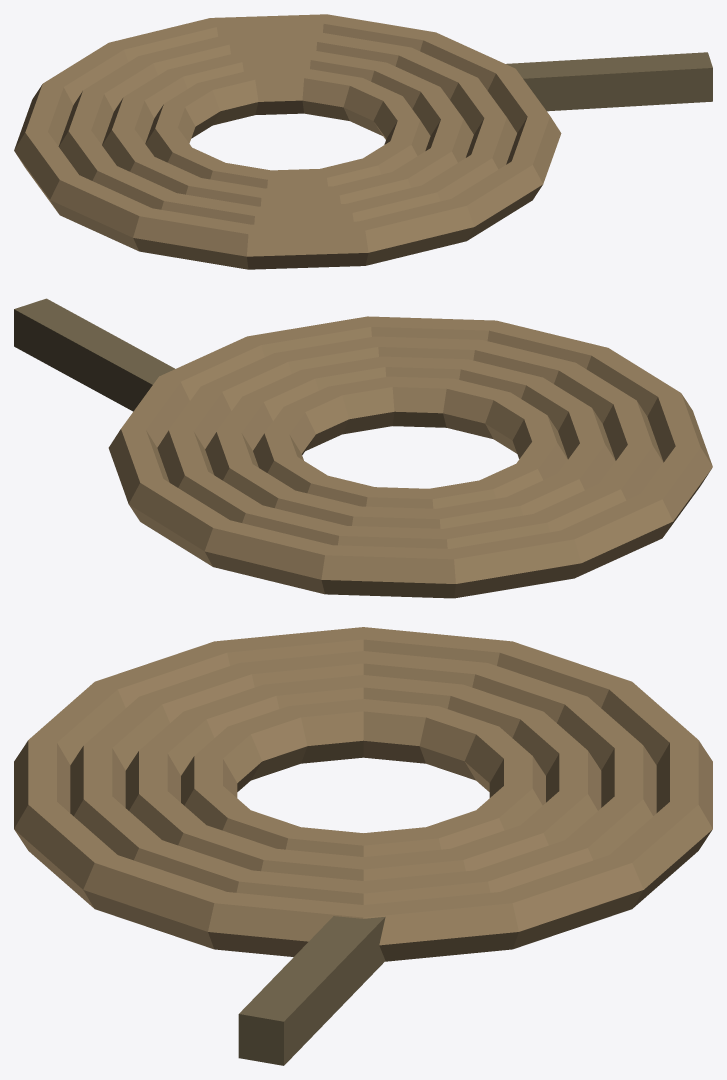
File: qc_rope_coil.obj
The picture shows the model from 3 angles, top to bottom: view 1: azimuth 30°, elevation 25°; view 2: azimuth 150°, elevation 25°; view 3: azimuth 270°, elevation 25°; orthographic projection. The views are drawn at different scales.
Visible parts, largest first — view 1: qc_rope_coil; view 2: qc_rope_coil; view 3: qc_rope_coil.
Part boxes in pixels (x1,y1,x2,y2): qc_rope_coil: (14,14,712,269); qc_rope_coil: (14,298,712,598); qc_rope_coil: (14,627,712,1065).
Bounding box in the file's own units: 0.8341 × 0.045 × 0.6162.
